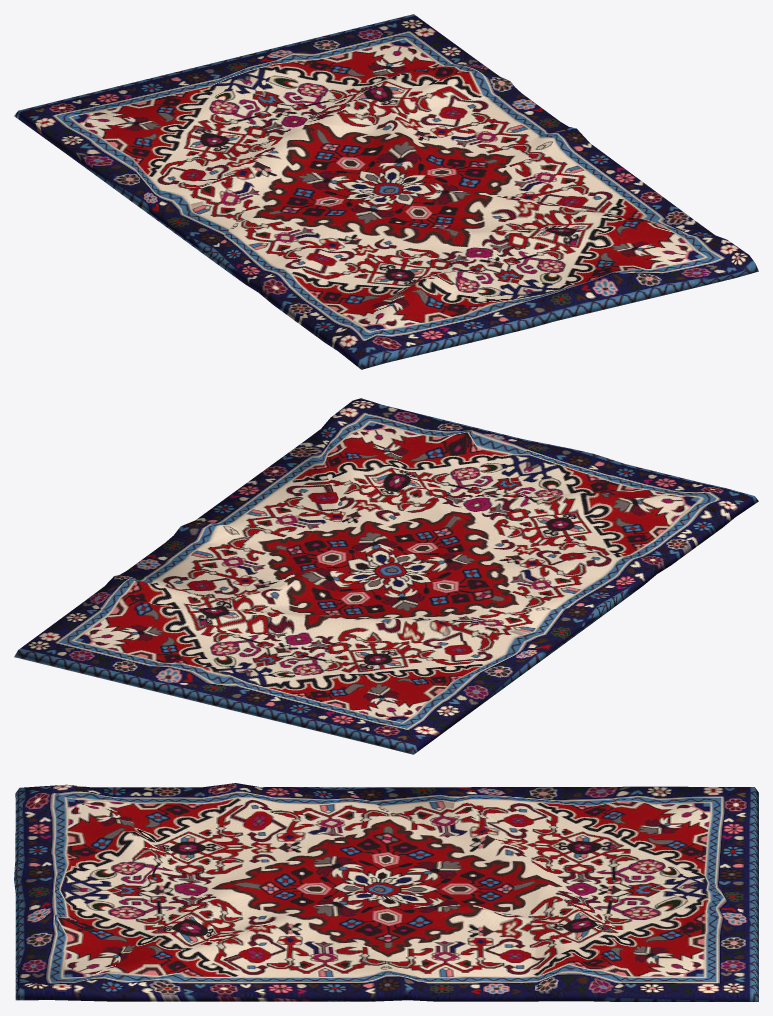
File: carpet.fbx
3 views of the same model, one above another, from view 1: azimuth 30°, elevation 25°; view 2: azimuth 150°, elevation 25°; view 3: azimuth 270°, elevation 25° (orthographic). The views are drawn at different scales.
Visible parts, largest first — view 1: Plane; view 2: Plane; view 3: Plane.
Boxes of the visible parts, <box> form: Plane: <box>14,14,758,369</box>; Plane: <box>14,398,758,754</box>; Plane: <box>14,783,758,1001</box>.
Bounding box in the file's own units: 2 × 0.0988 × 3.01.
